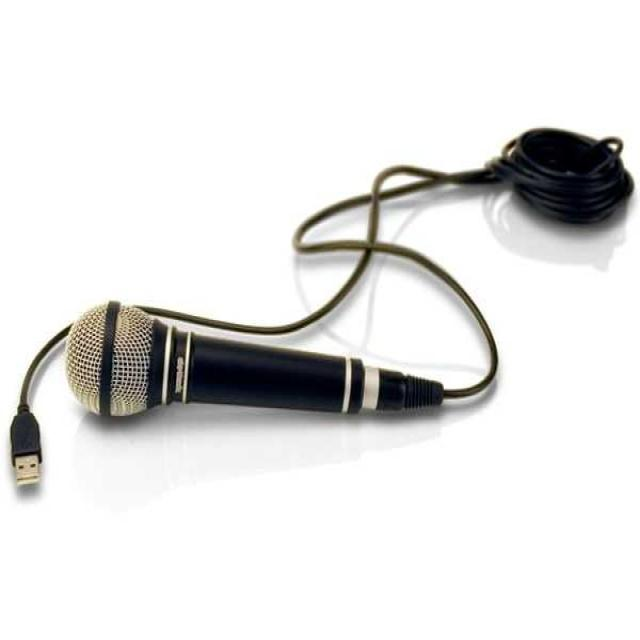microphone: (64, 300, 437, 418)
